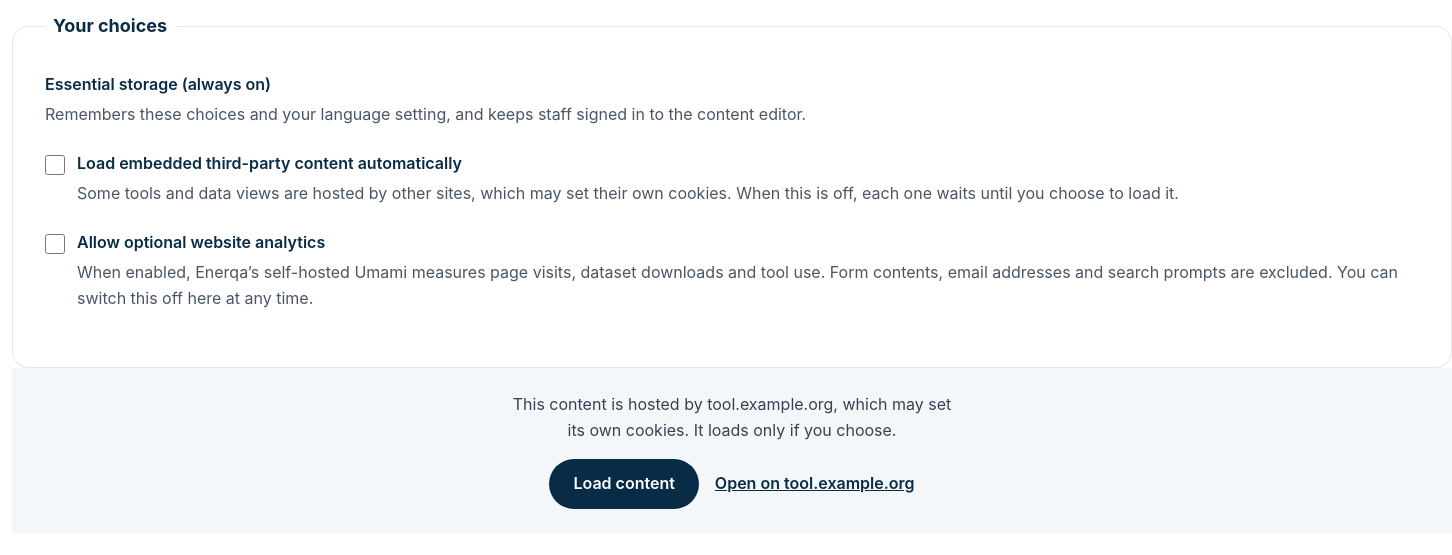
CookieChoicesControl (p. 208 U03) › allowing embeds saves the choice and loads the embed
Click the checkbox labelled "Load embedded third-party content automatically".
click(55, 165)  # box [45,155,65,175]
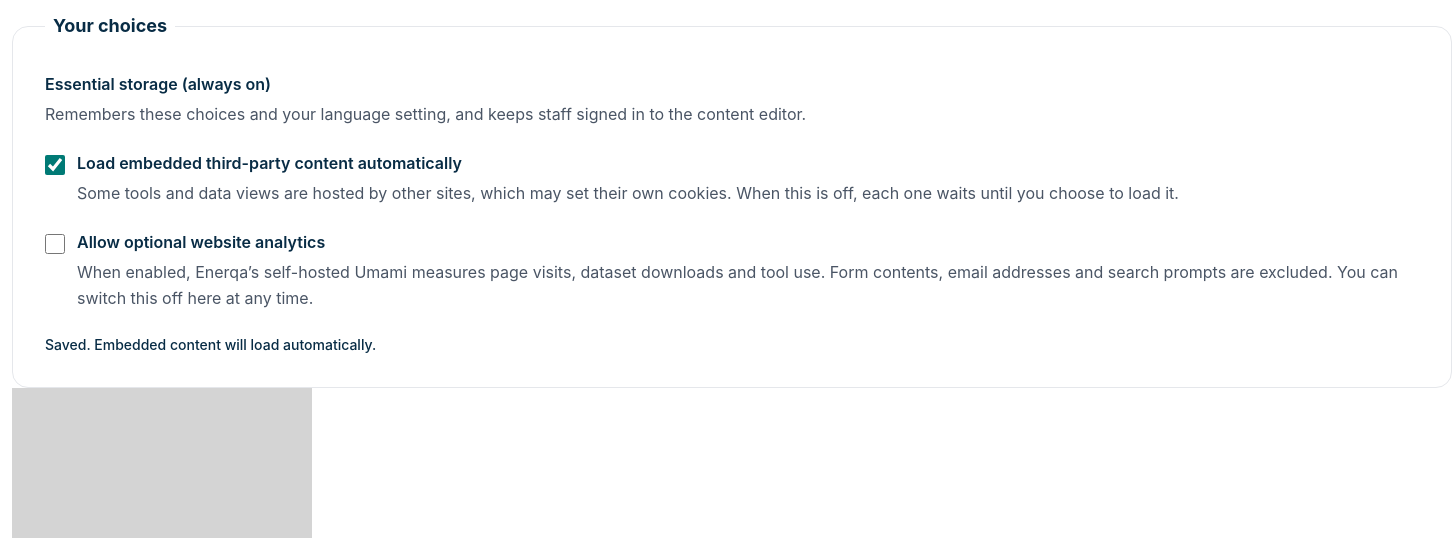
Now the message shows "Saved", box [45,336,376,353]
